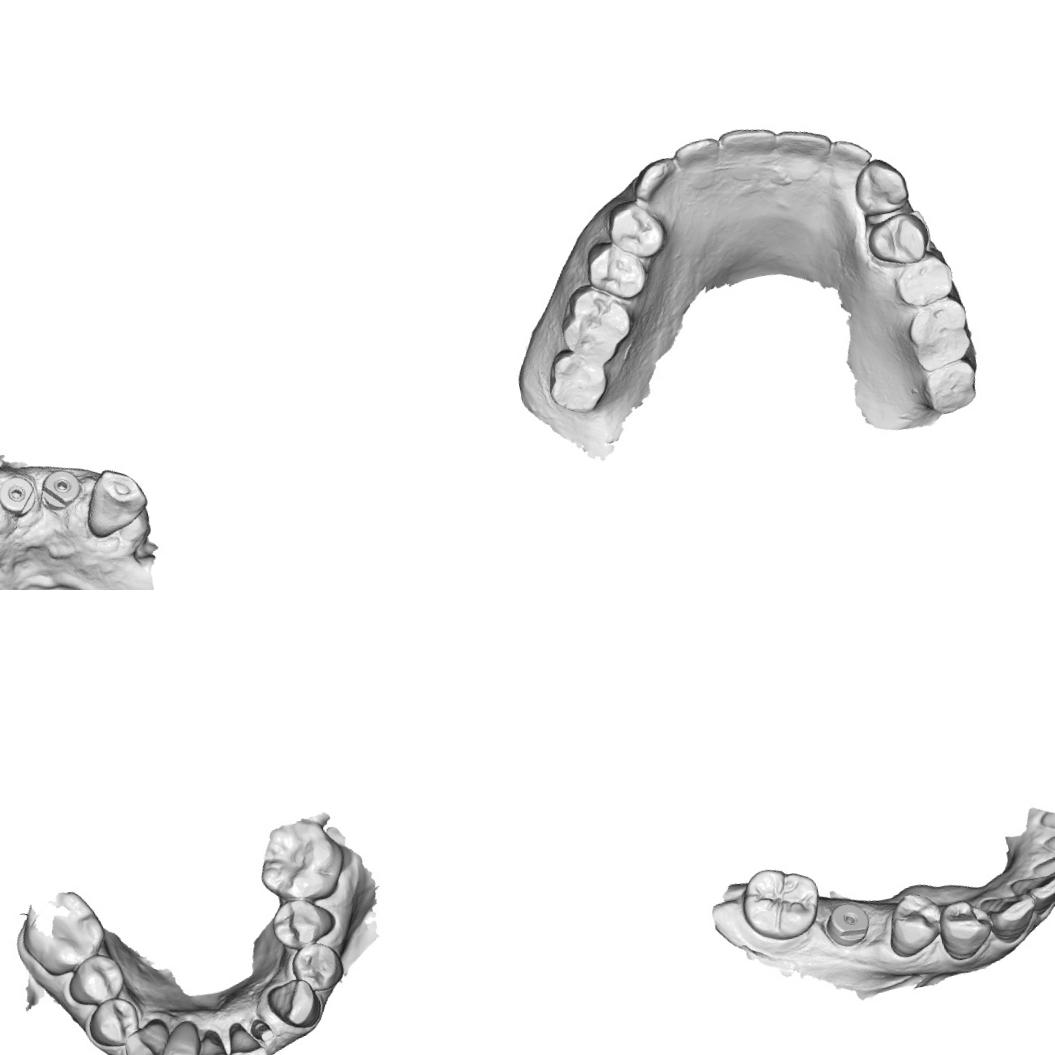abutment: (246, 1015, 277, 1046)
canine: (73, 460, 155, 542), (847, 152, 912, 219), (980, 886, 1043, 946), (264, 972, 324, 1034), (627, 154, 684, 205), (119, 1015, 176, 1055)
implant: (820, 898, 874, 952), (36, 463, 86, 510), (0, 472, 35, 519)
incisor: (773, 121, 834, 166), (716, 120, 777, 160), (1010, 866, 1055, 917), (671, 130, 723, 172), (153, 1017, 206, 1055), (830, 132, 873, 170), (1033, 845, 1055, 894), (188, 1033, 231, 1055), (224, 1035, 269, 1055)
molar: (250, 812, 352, 909), (13, 885, 112, 983), (734, 858, 826, 946), (552, 276, 638, 361), (902, 294, 978, 374), (540, 341, 613, 419), (916, 356, 982, 418)
premolar: (581, 233, 651, 305), (860, 207, 936, 271), (880, 888, 946, 960), (266, 891, 340, 954), (602, 194, 668, 263), (934, 894, 995, 965), (890, 252, 958, 310), (63, 950, 128, 1010), (86, 992, 144, 1052), (286, 938, 347, 995)
